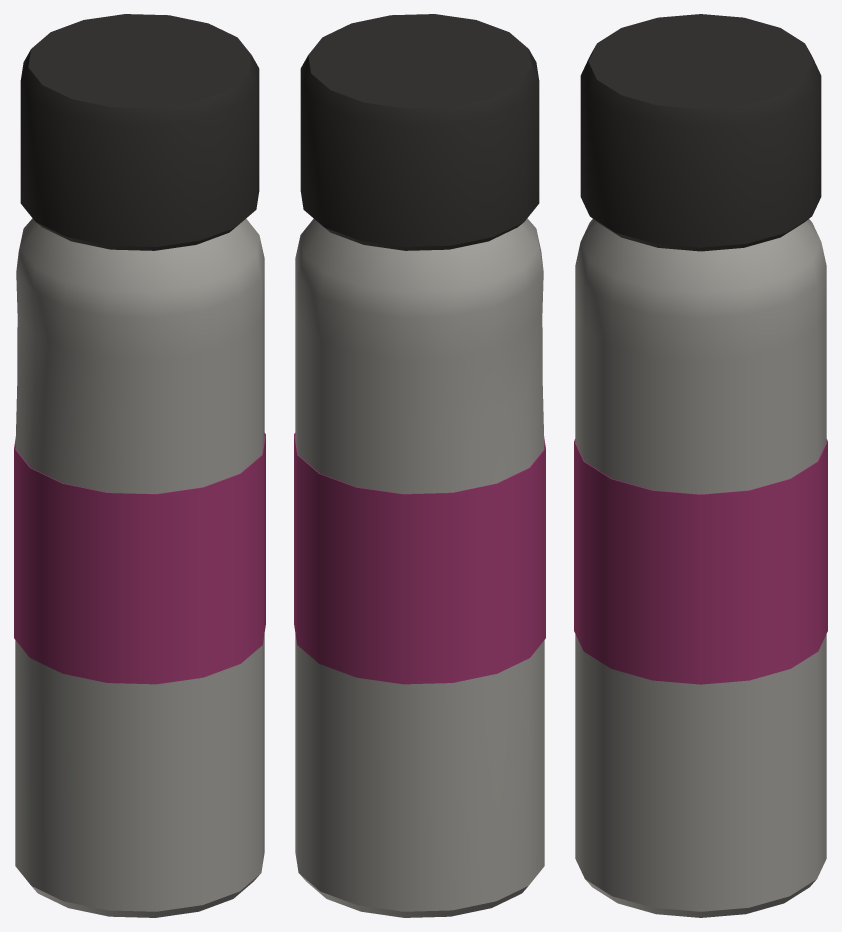
File: deodorant-can-d34bf2f11123.glb
The picture shows the model from 3 angles, left to right: view 1: azimuth 30°, elevation 25°; view 2: azimuth 150°, elevation 25°; view 3: azimuth 270°, elevation 25°; orthographic projection.
Parts seen in each view (by area): view 1: brushed, plastic-dark, accent-magenta; view 2: brushed, plastic-dark, accent-magenta; view 3: brushed, plastic-dark, accent-magenta.
Boxes of the visible parts, x1,y1,x2,y2 form: brushed: (15,218,264,917); plastic-dark: (20,14,259,250); accent-magenta: (14,433,265,684); brushed: (295,218,544,917); plastic-dark: (300,14,539,250); accent-magenta: (294,433,545,684); brushed: (575,219,826,917); plastic-dark: (580,14,821,251); accent-magenta: (574,439,827,684).
Bounding box in the file's own units: 0.0485 × 0.17 × 0.0485.
